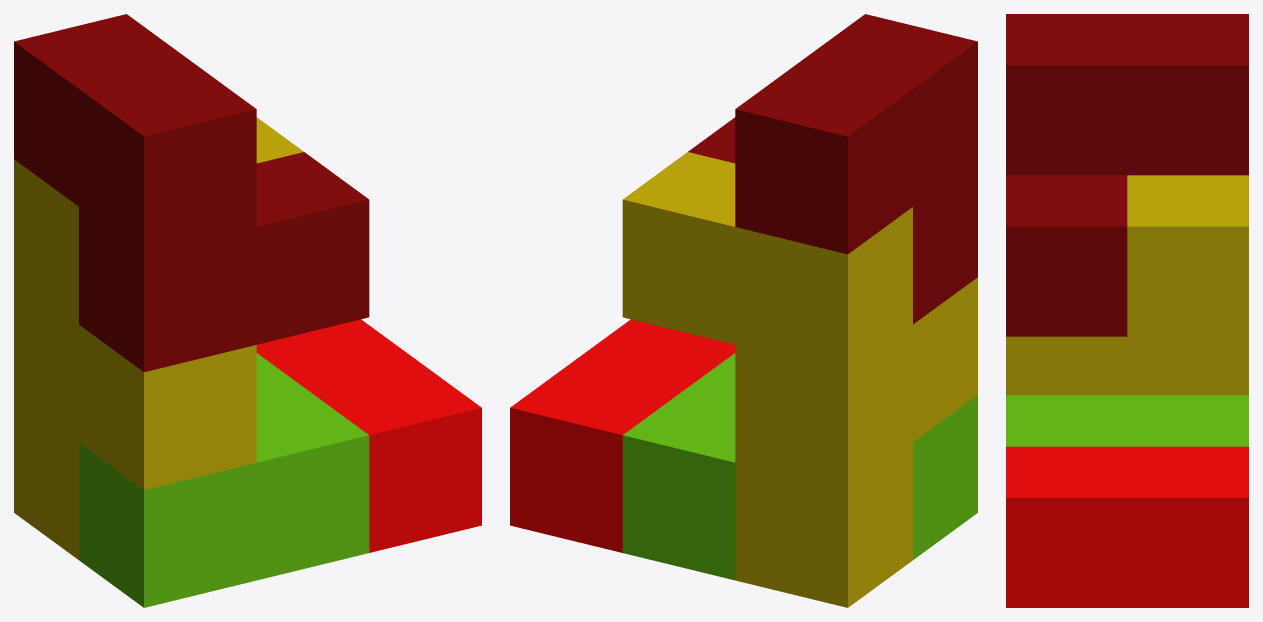
3 views of the same model, side by side, from view 1: azimuth 30°, elevation 25°; view 2: azimuth 150°, elevation 25°; view 3: azimuth 270°, elevation 25° (orthographic). The views are drawn at different scales.
Visible parts, largest first — view 1: mergedBlocks(Clone); view 2: mergedBlocks(Clone); view 3: mergedBlocks(Clone).
Boxes of the visible parts, box(x1,y1,x2,y2) form: mergedBlocks(Clone): box(14, 14, 481, 607); mergedBlocks(Clone): box(510, 14, 977, 607); mergedBlocks(Clone): box(1006, 14, 1248, 607).
Size of the model in its own units: 3 by 4 by 2.
4 materials, 4 textured.
